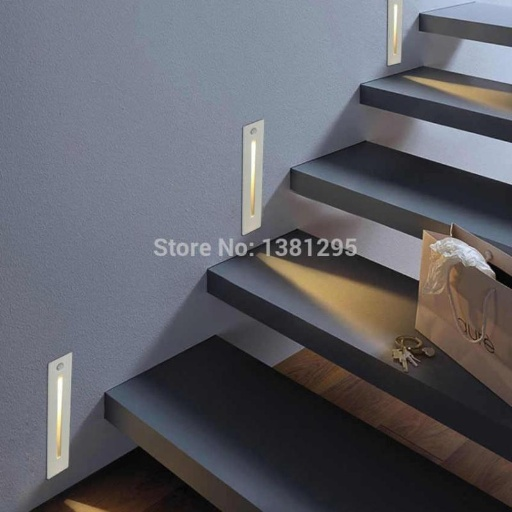Stairs: (106, 11, 512, 512), (208, 253, 512, 419)
